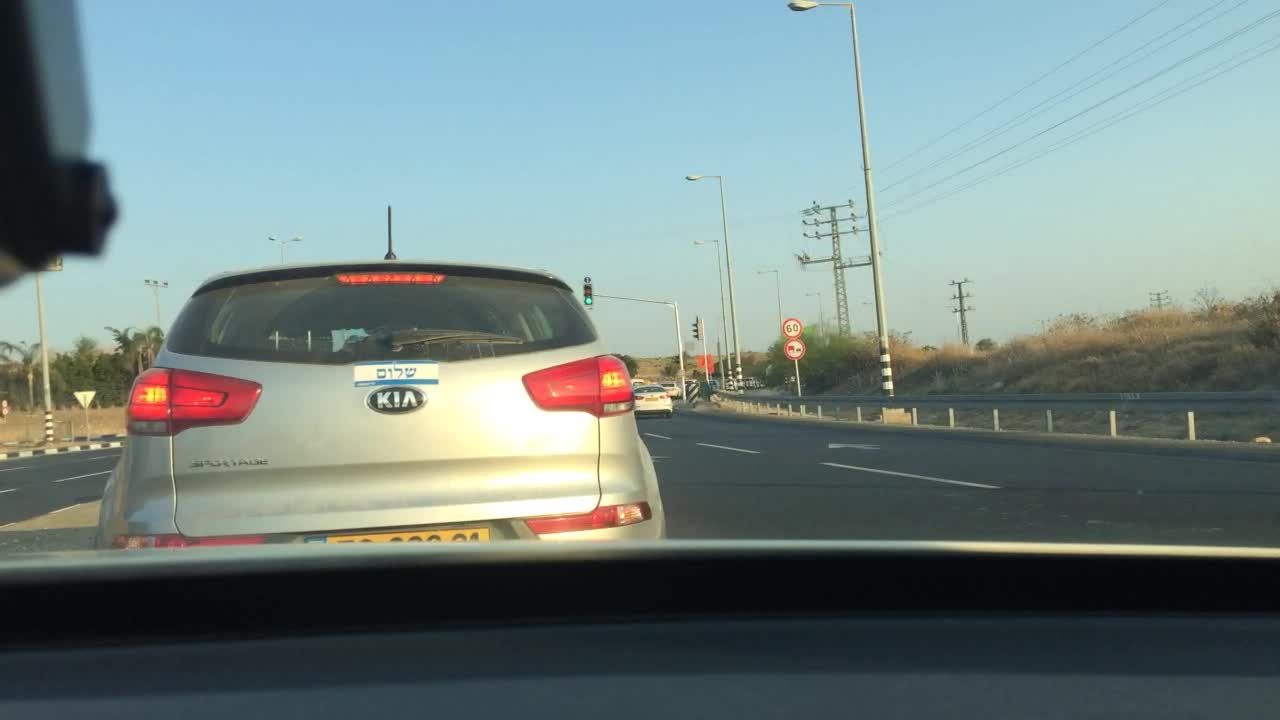car: (93, 202, 667, 565), (630, 385, 674, 417), (662, 380, 684, 399), (744, 375, 756, 388)
traffic light: (581, 276, 593, 309), (689, 321, 697, 343)
traffic sign: (31, 252, 64, 272), (781, 337, 805, 359), (778, 317, 801, 335), (71, 390, 96, 406), (697, 353, 712, 374)
